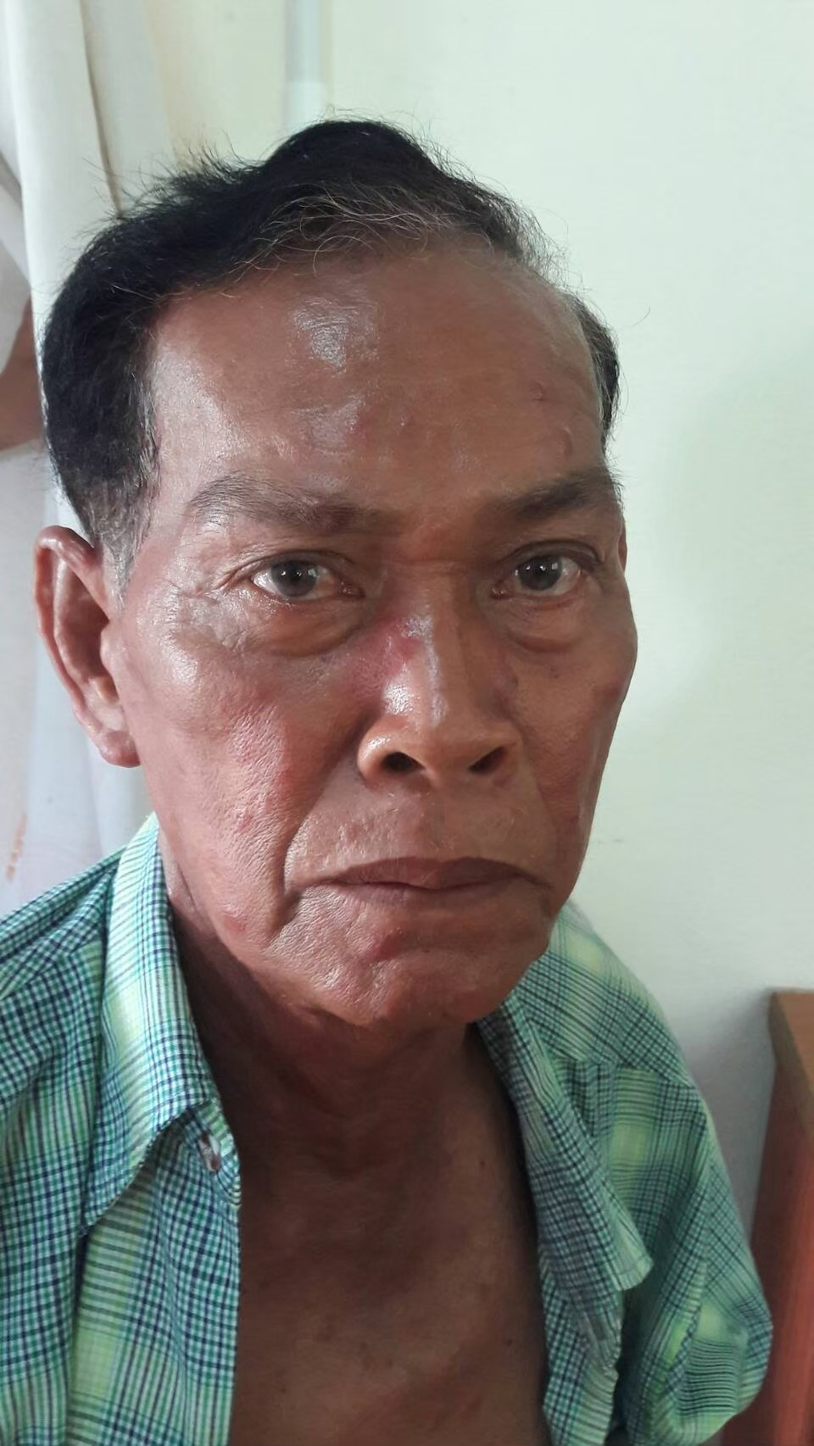Leprosy: (196, 675, 309, 837), (317, 924, 429, 1030), (316, 393, 398, 451), (371, 616, 442, 677), (208, 891, 270, 948)
